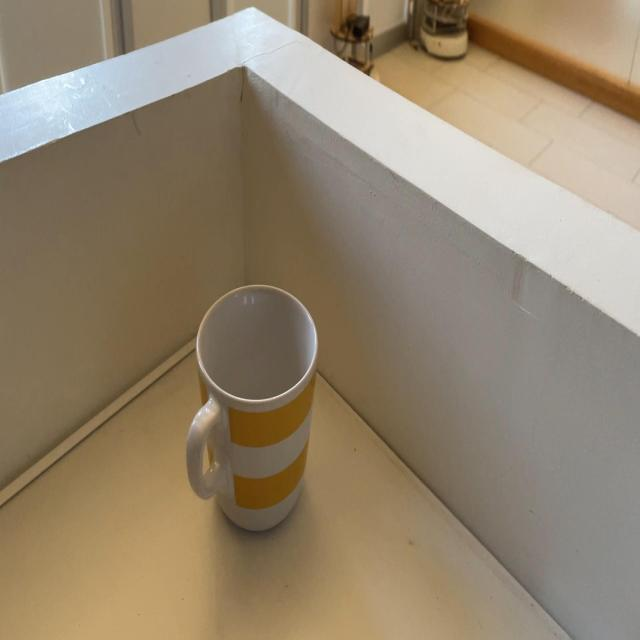cup: (186, 284, 319, 533)
